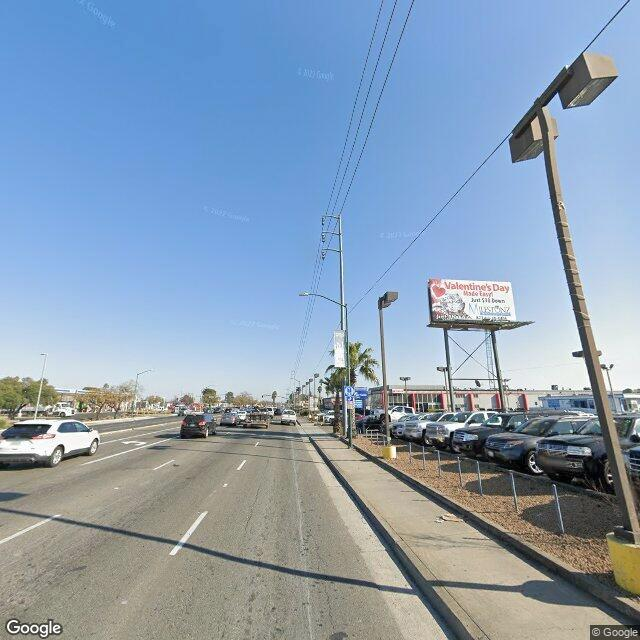pothole: (240, 481, 261, 535)
